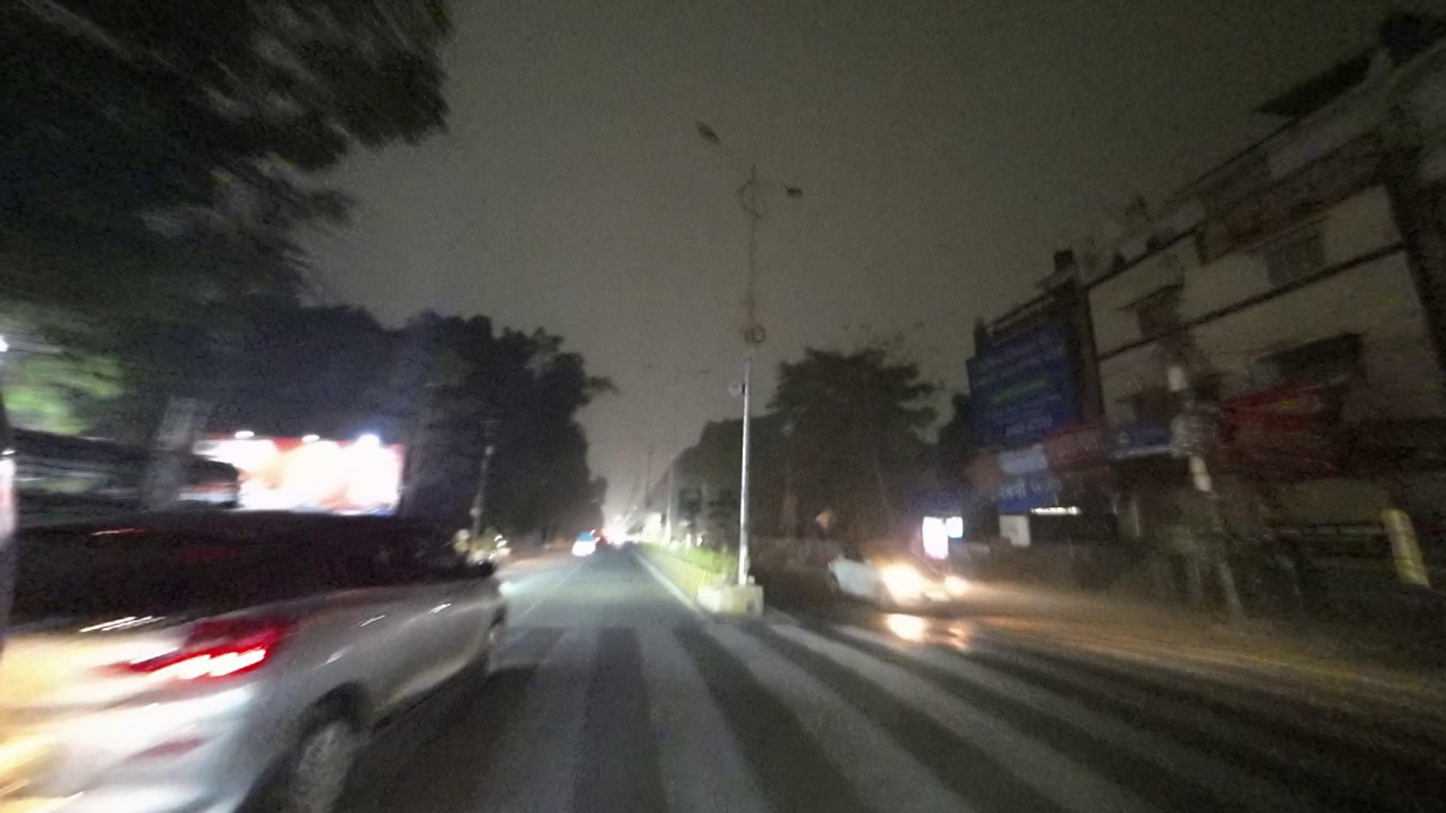streetlight: (693, 114, 747, 171), (762, 171, 807, 206)
